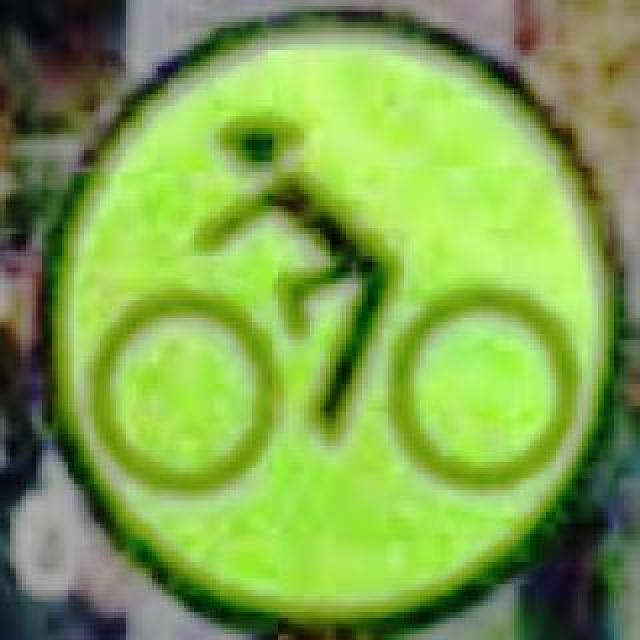bike lane: (38, 10, 614, 618)
